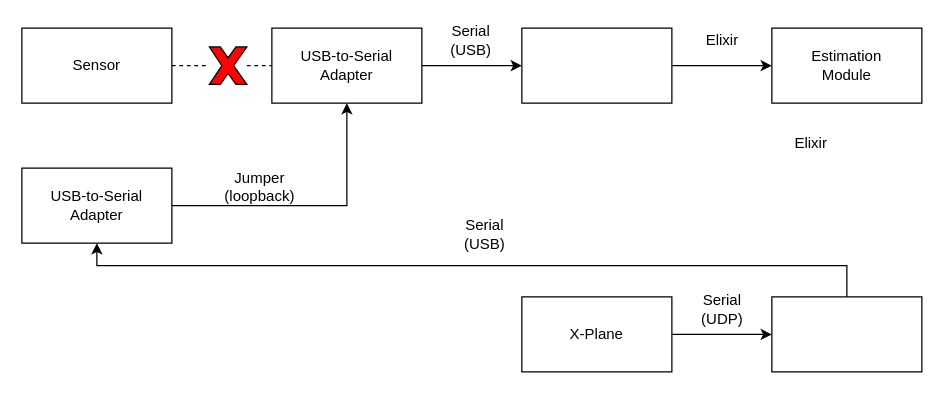
Some shapes in this 944 by 394 pixel diagram are drawn without their labels. The shapes that lost their labels are listed below. From the top down, each one's centre as x and y in pixels, then its label:
At (x=596, y=65): "Parser".
At (x=846, y=334): "X-Plane Interface".
